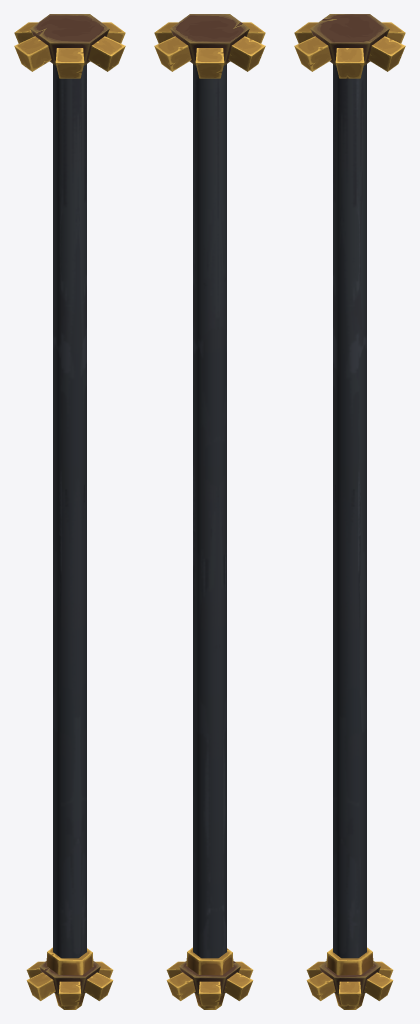
The model's file is SM_WEP_hilt_staff_battle_13.fbx.
3 renders of one model, left to right at view 1: azimuth 30°, elevation 25°; view 2: azimuth 210°, elevation 25°; view 3: azimuth 330°, elevation 25°, orthographic.
Visible parts, largest first — view 1: SM_WEP_hilt_staff_battle_13; view 2: SM_WEP_hilt_staff_battle_13; view 3: SM_WEP_hilt_staff_battle_13.
Part boxes in pixels (x1,y1,x2,y2): SM_WEP_hilt_staff_battle_13: [14, 14, 125, 1009]; SM_WEP_hilt_staff_battle_13: [154, 14, 265, 1009]; SM_WEP_hilt_staff_battle_13: [294, 14, 405, 1009].
Size of the model in its own units: 16.43 by 158 by 16.33.
